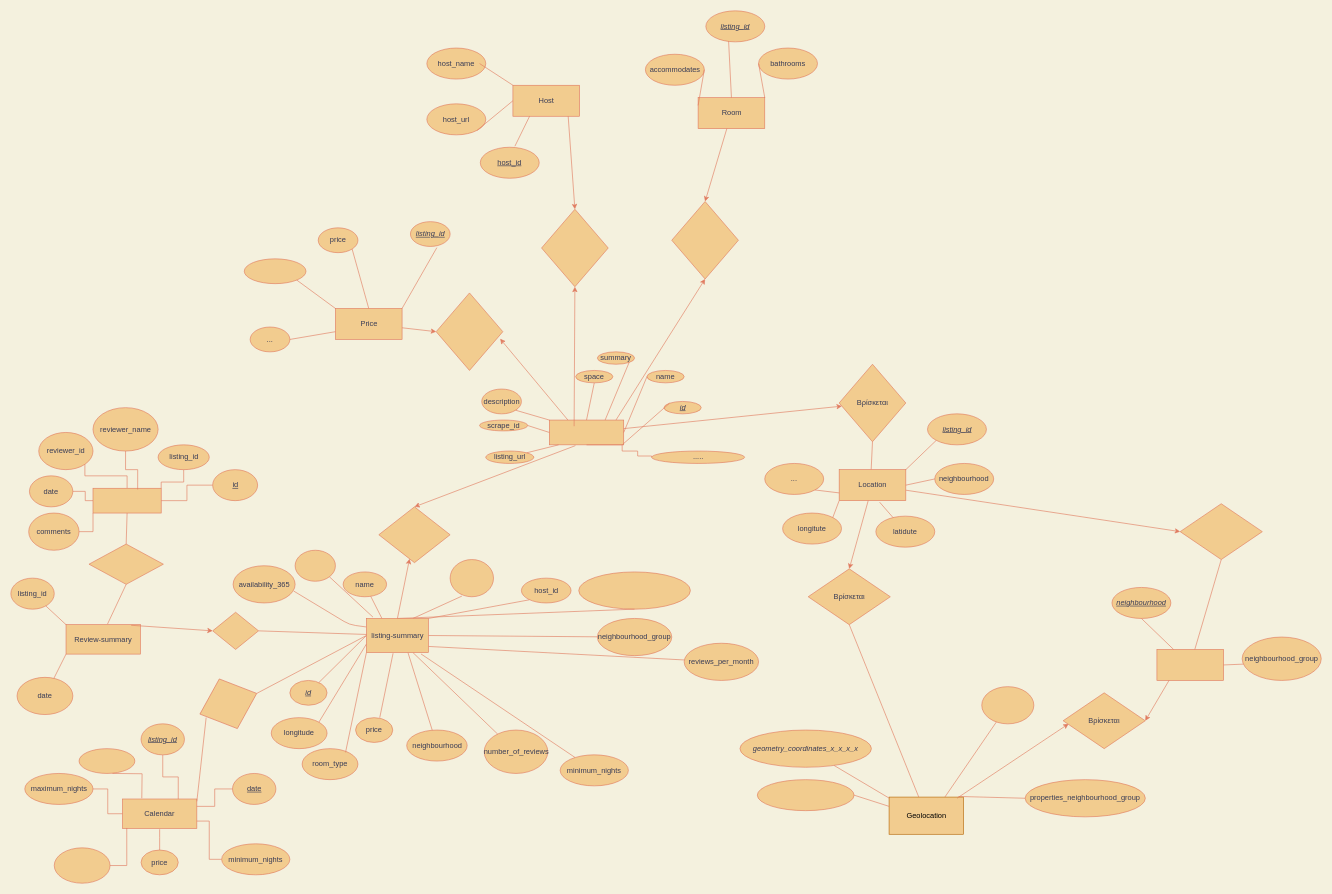
Some shapes in this 1332 by 894 pixel diagram are drawn without their labels. The centre of each missing label's shape, as x and y in pixels:
"adjusted_price" belongs at point (82, 865).
"available" belongs at point (106, 760).
"calculated_host_listings_count" belongs at point (634, 590).
"geometry_type" belongs at point (1007, 705).
"last_review" belongs at point (472, 578).
"latitude" belongs at point (314, 565).
"Listing" belongs at point (586, 432).
"neighbourhoods" belongs at point (1190, 664).
"properties_neighbourhood" belongs at point (805, 795).
"Review" belongs at point (126, 500).
"weekly_price" belongs at point (275, 271).
"Αναλυτική Κριτική" belongs at point (125, 563).
"Διαθεσιμότητα" belongs at point (228, 703).
"Κοστίζει" belongs at point (469, 331).
"Κριτική" belongs at point (235, 630).
"Ορίζεται" belongs at point (1221, 531).
"Ποιος το έχει;" belongs at point (574, 248).
"Προβολή Λεπτομερειών" belongs at point (414, 534).
"Πως είναι;" belongs at point (704, 240).
